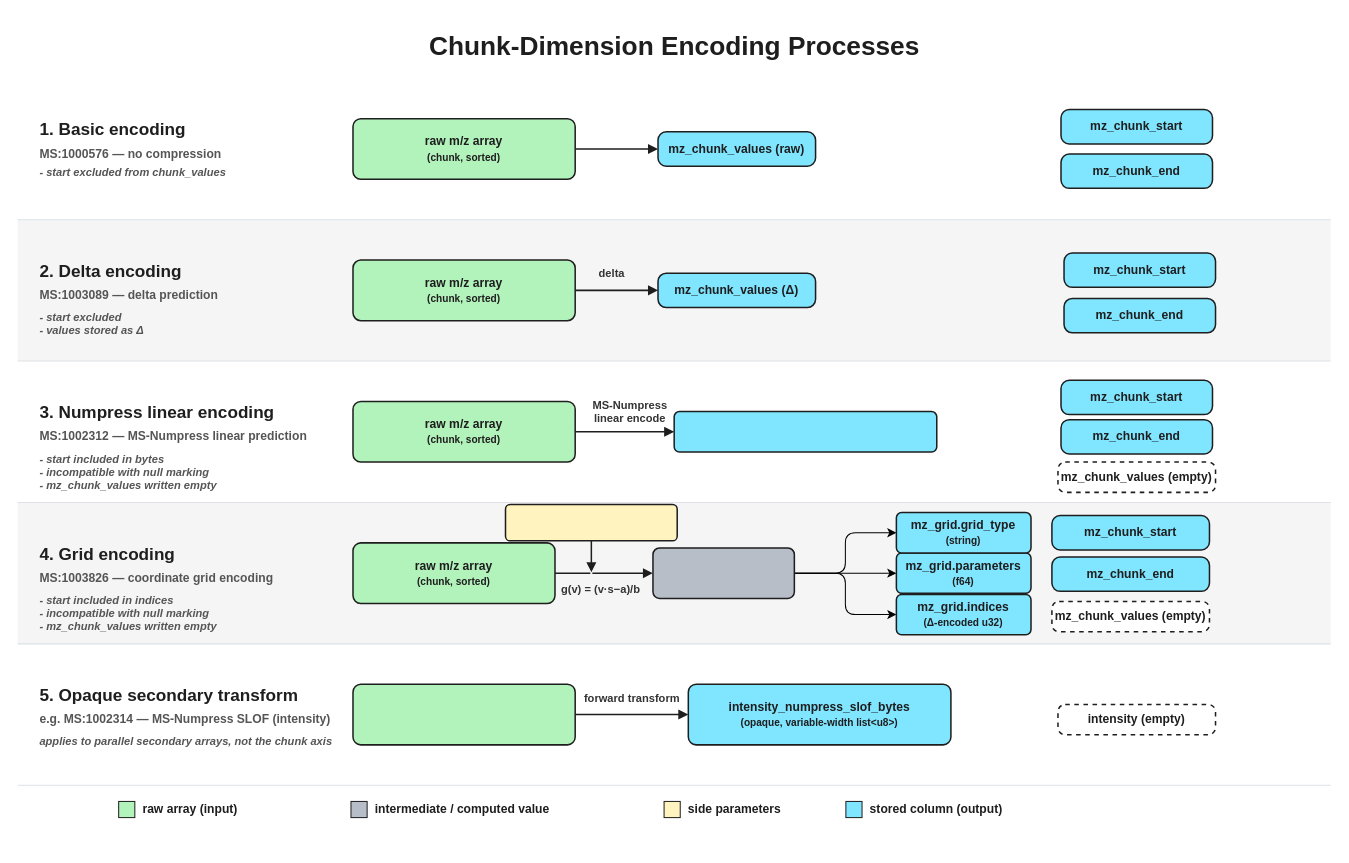
The diagram is 1349 pixels wide and 863 high, and some of its shapes have lost their labels. The shapes that lost their labels are listed below. From the top down, each one's centre as x and y in pixels, then its label:
At (x=805, y=431): "mz_numpress_linear_bytes (8B fixed-pt, 4B×2, 2B residuals…)".
At (x=591, y=522): "grid_type + parameters".
At (x=723, y=573): "grid index (absolute)".
At (x=463, y=714): "raw intensity array (chunk)".
